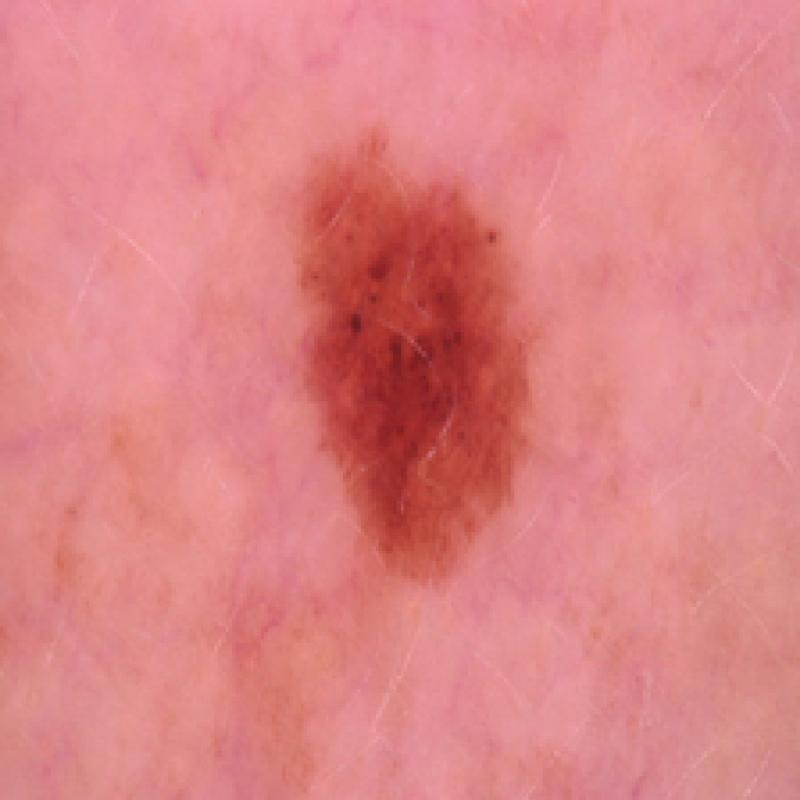benign: (255, 96, 603, 626)
